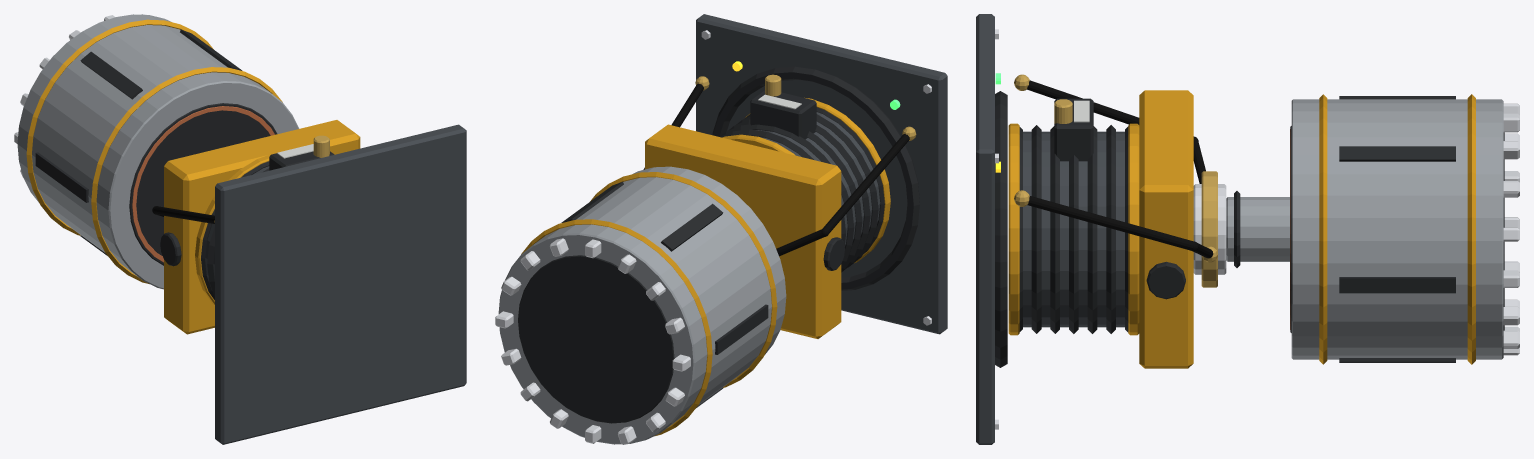
Rendered from mining_head_medium.glb.
The picture shows the model from 3 angles, left to right: view 1: azimuth 30°, elevation 25°; view 2: azimuth 150°, elevation 25°; view 3: azimuth 270°, elevation 25°; orthographic projection. The views are drawn at different scales.
Visible parts, largest first — view 1: mining_head_medium; view 2: mining_head_medium; view 3: mining_head_medium.
Part boxes in pixels (box(x1,y1,x2,y2)): mining_head_medium: box(14, 14, 466, 444); mining_head_medium: box(495, 14, 947, 444); mining_head_medium: box(976, 14, 1519, 444).
Bounding box in the file's own units: 1.2 × 1.2 × 2.
